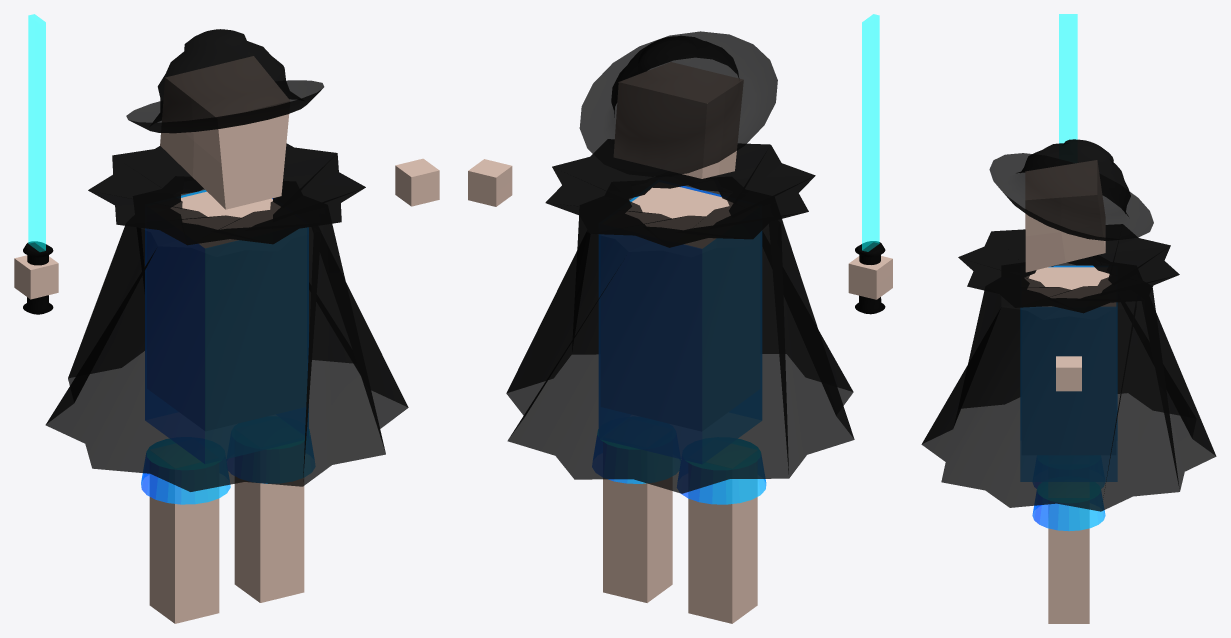
File: futureEnemy.fbx
The picture shows the model from 3 angles, left to right: view 1: azimuth 30°, elevation 25°; view 2: azimuth 150°, elevation 25°; view 3: azimuth 270°, elevation 25°; orthographic projection. The views are drawn at different scales.
Visible parts, largest first — view 1: pCone3, pCube11; view 2: pCone3, pCube11; view 3: pCone3, pCube11.
Boxes of the visible parts, x1,y1,x2,y2 form: pCone3: (14, 29, 439, 623); pCube11: (23, 14, 53, 314); pCone3: (468, 31, 892, 623); pCube11: (855, 14, 885, 314); pCone3: (921, 139, 1216, 623); pCube11: (1059, 14, 1077, 143).
Size of the model in its own units: 4.03 by 5.9 by 3.11.
